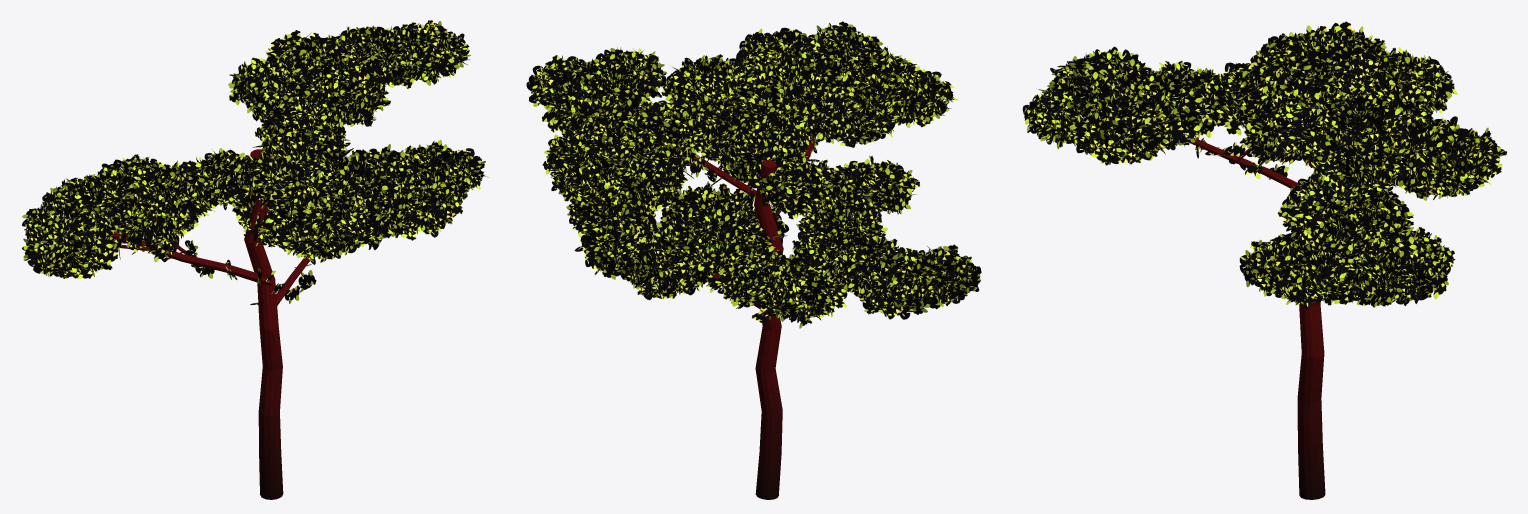
Rendered from acacia_flat_v03.glb.
The picture shows the model from 3 angles, left to right: view 1: azimuth 30°, elevation 25°; view 2: azimuth 150°, elevation 25°; view 3: azimuth 270°, elevation 25°; orthographic projection. The views are drawn at different scales.
Parts seen in each view (by area): view 1: acacia_flat_v03; view 2: acacia_flat_v03; view 3: acacia_flat_v03.
Part boxes in pixels (box(x1,y1,x2,y2)): acacia_flat_v03: box(22, 20, 489, 499); acacia_flat_v03: box(526, 21, 981, 499); acacia_flat_v03: box(1022, 21, 1506, 499).
Bounding box in the file's own units: 12.72 × 11.68 × 10.63.
2 materials, 2 textured.
